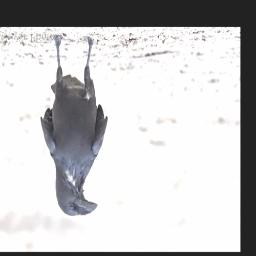Crow: (39, 33, 110, 218)
